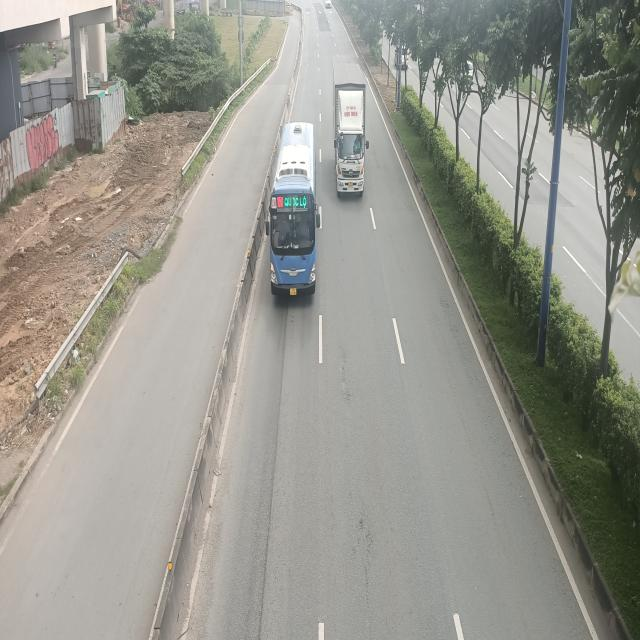coach: (264, 121, 320, 295)
truck: (332, 63, 369, 196)
